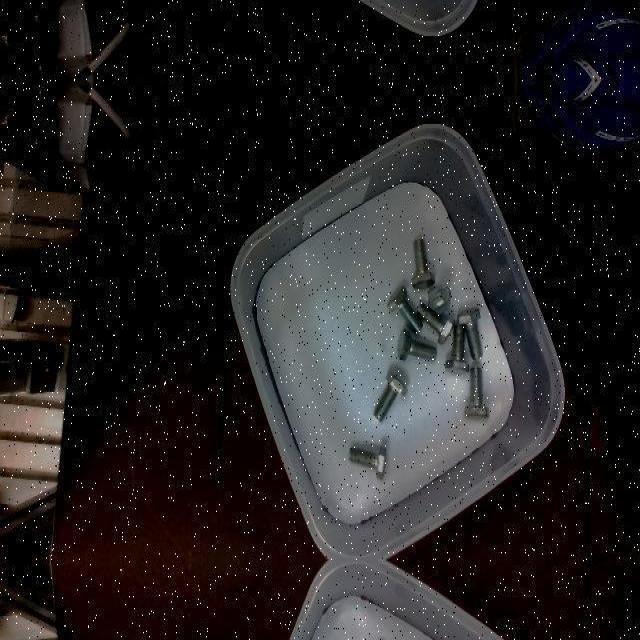screw: (373, 371, 408, 421), (387, 286, 423, 334), (416, 303, 455, 345), (456, 307, 483, 361), (464, 366, 489, 418), (348, 445, 386, 479), (397, 328, 437, 360), (445, 323, 470, 373), (411, 237, 435, 289), (428, 283, 451, 313)
